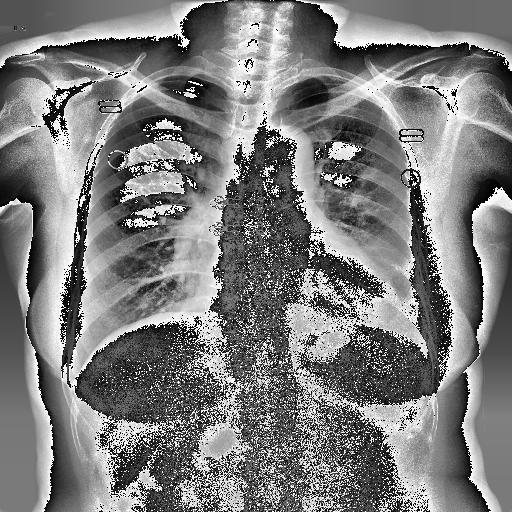0- Aortic enlargement: (260, 125, 316, 183), (265, 126, 313, 182), (256, 128, 316, 168)
13- Pulmonary fibrosis: (339, 167, 387, 209)
3- Cardiomegaly: (194, 258, 396, 327), (193, 278, 405, 332), (188, 290, 399, 331)
7- Lung Opacity: (345, 170, 389, 218)
9- Other lesion: (411, 196, 432, 267)
